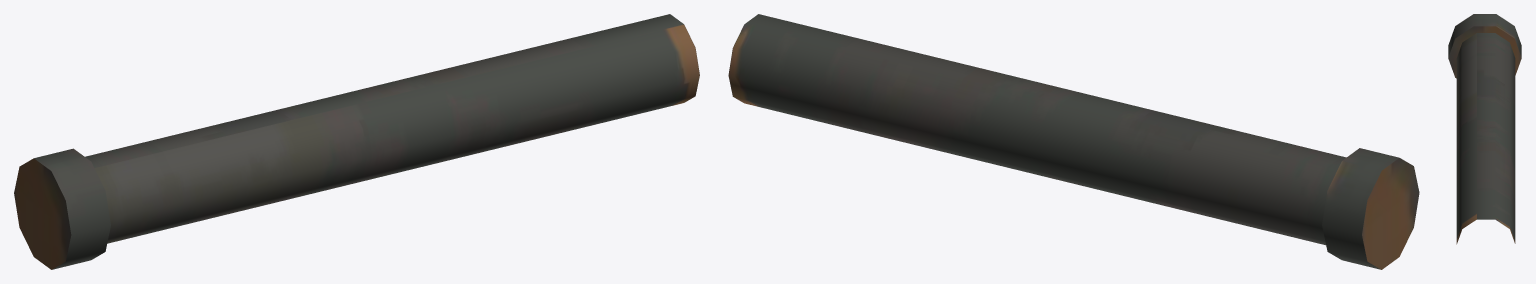
3 renders of one model, left to right at view 1: azimuth 30°, elevation 25°; view 2: azimuth 150°, elevation 25°; view 3: azimuth 270°, elevation 25°, orthographic. The views are drawn at different scales.
Visible parts, largest first — view 1: body0_model0_lod0_mesh0; view 2: body0_model0_lod0_mesh0; view 3: body0_model0_lod0_mesh0.
Part boxes in pixels (x1,y1,x2,y2): body0_model0_lod0_mesh0: (14,14,699,269); body0_model0_lod0_mesh0: (728,14,1419,269); body0_model0_lod0_mesh0: (1448,14,1521,244).
Bounding box in the file's own units: 64 × 9.51 × 10.
Materials: 1 (1 with a texture image).
